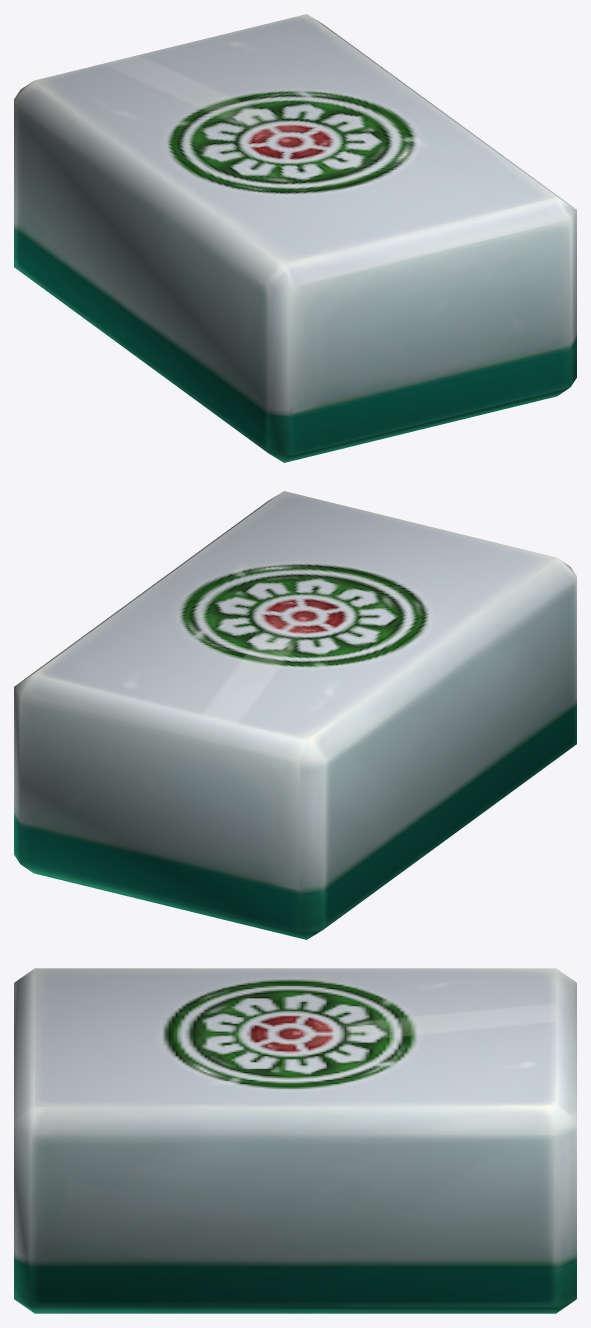
Rendered from yibing.FBX.
The picture shows the model from 3 angles, top to bottom: view 1: azimuth 30°, elevation 25°; view 2: azimuth 150°, elevation 25°; view 3: azimuth 270°, elevation 25°; orthographic projection. The views are drawn at different scales.
Parts seen in each view (by area): view 1: yibing; view 2: yibing; view 3: yibing.
Part boxes in pixels (left/top/right/bottom): yibing: left=14, top=14, right=576, bottom=462; yibing: left=14, top=491, right=576, bottom=939; yibing: left=14, top=968, right=576, bottom=1313.
Size of the model in its own units: 20.77 by 12.78 by 31.51.
Materials: 1 (1 with a texture image).
